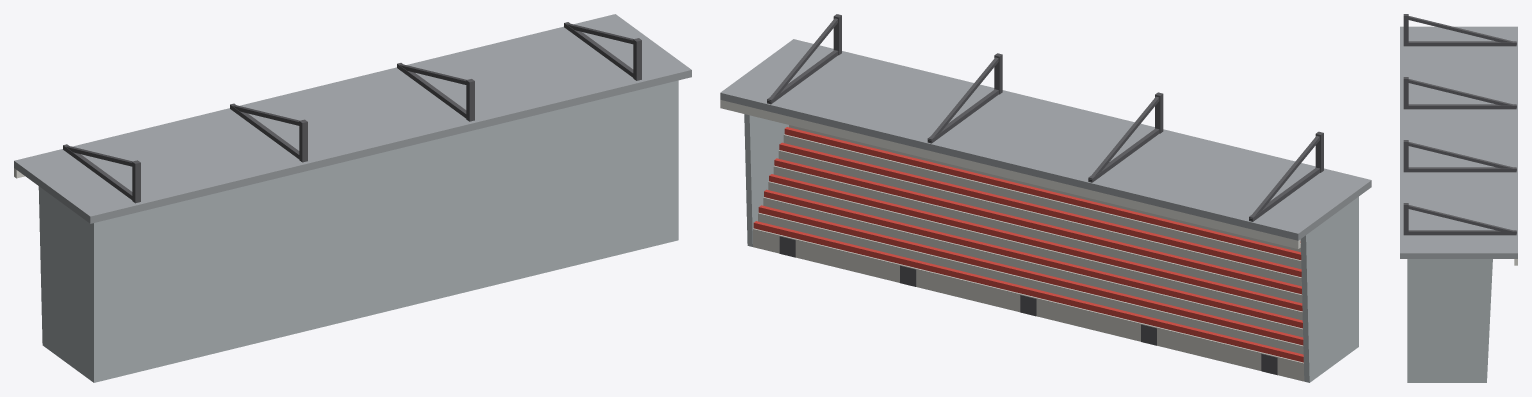
The model's file is stand.glb.
The picture shows the model from 3 angles, left to right: view 1: azimuth 30°, elevation 25°; view 2: azimuth 150°, elevation 25°; view 3: azimuth 270°, elevation 25°; orthographic projection. The views are drawn at different scales.
Parts seen in each view (by area): view 1: stand; view 2: stand; view 3: stand.
Part boxes in pixels (x1,y1,x2,y2): stand: [14, 14, 691, 382]; stand: [720, 14, 1371, 382]; stand: [1400, 14, 1517, 382].
Size of the model in its own units: 43.2 by 14.5 by 9.5.
